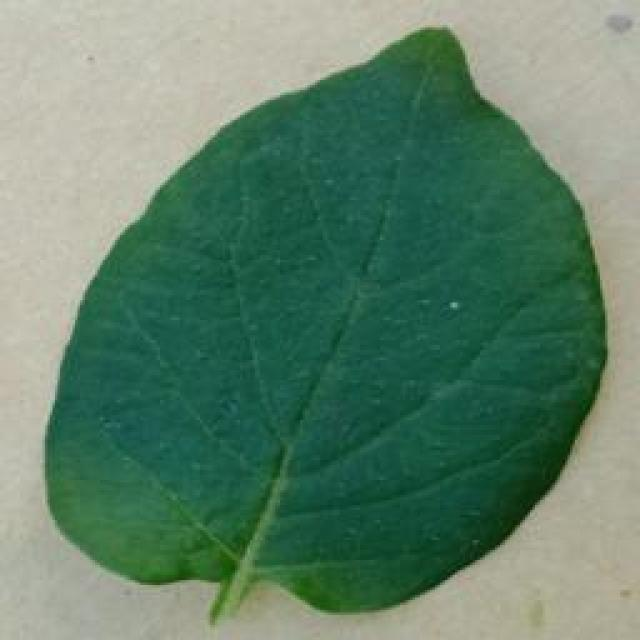Potato_Healthy: (46, 26, 604, 622)
